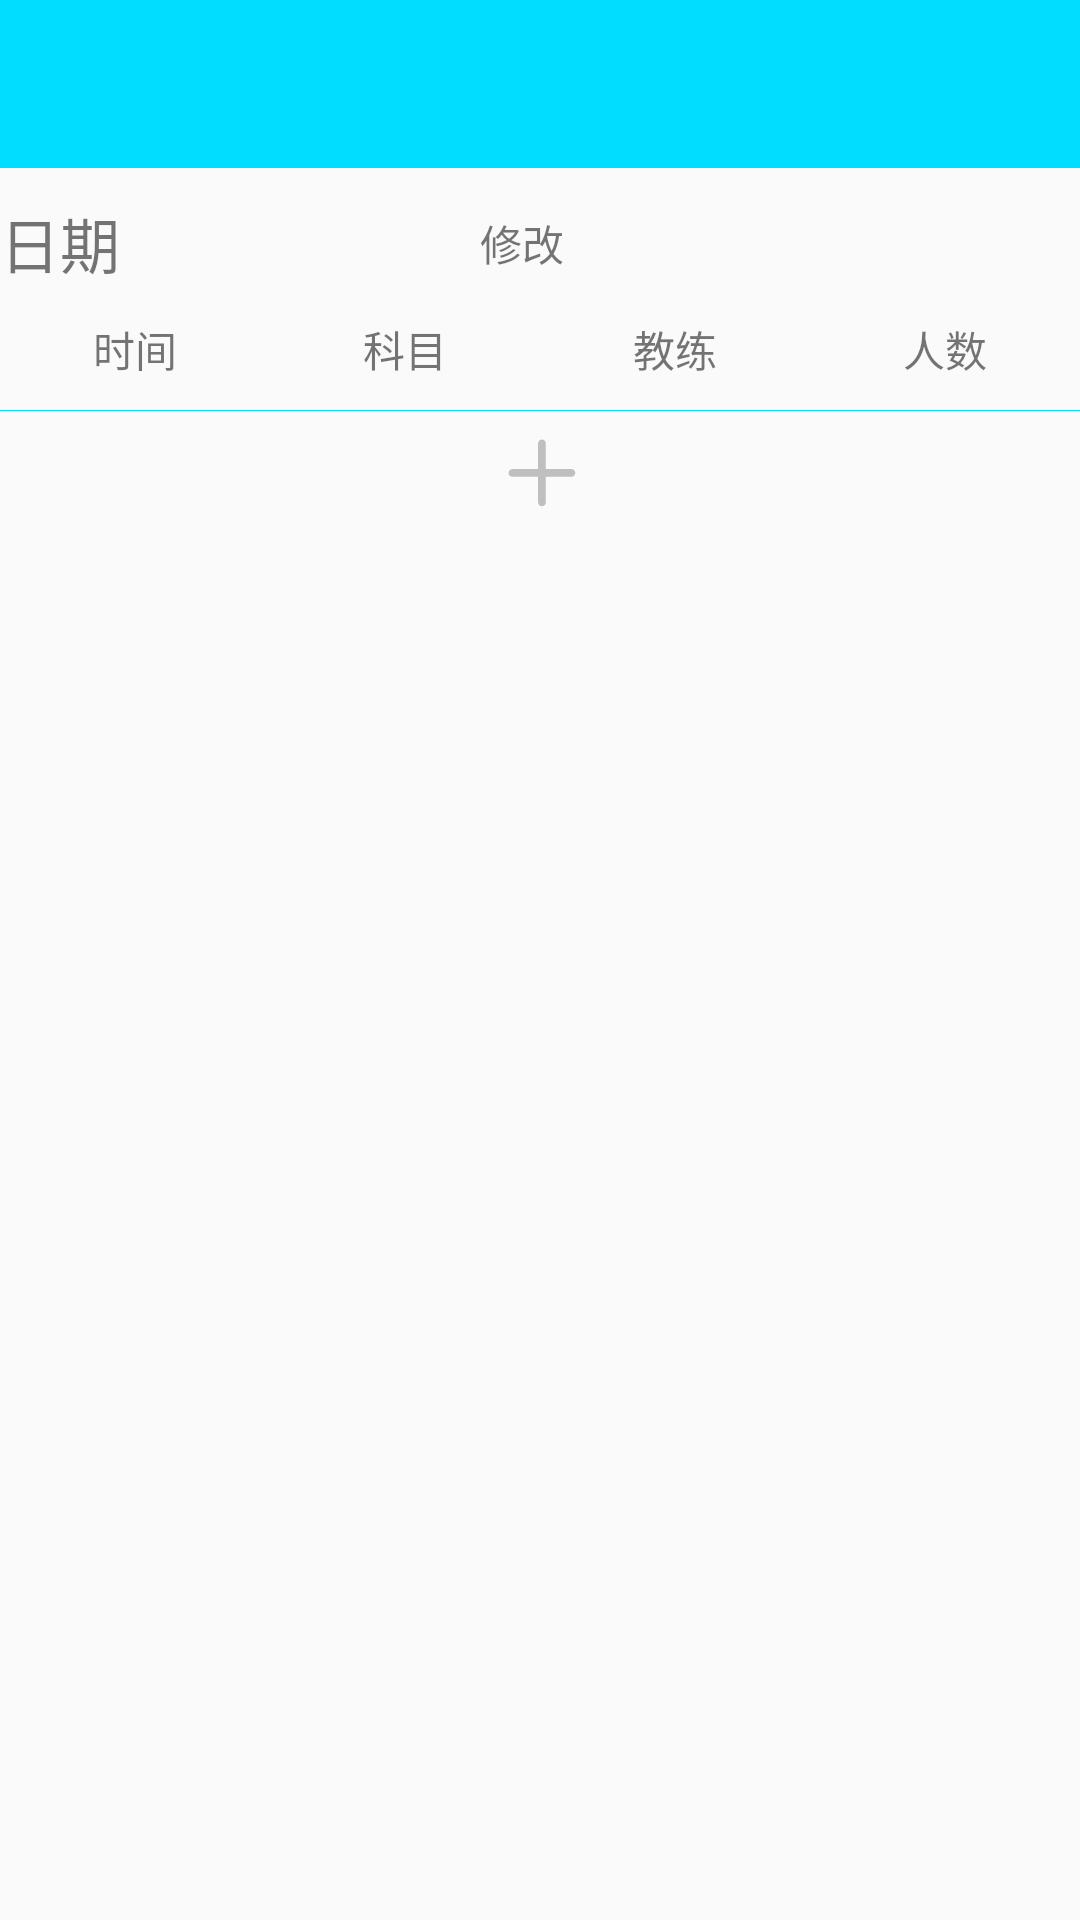

Named icons in this screenshot (1080px x 1920px) and their centers, [x,y]:
add: [542,473]
